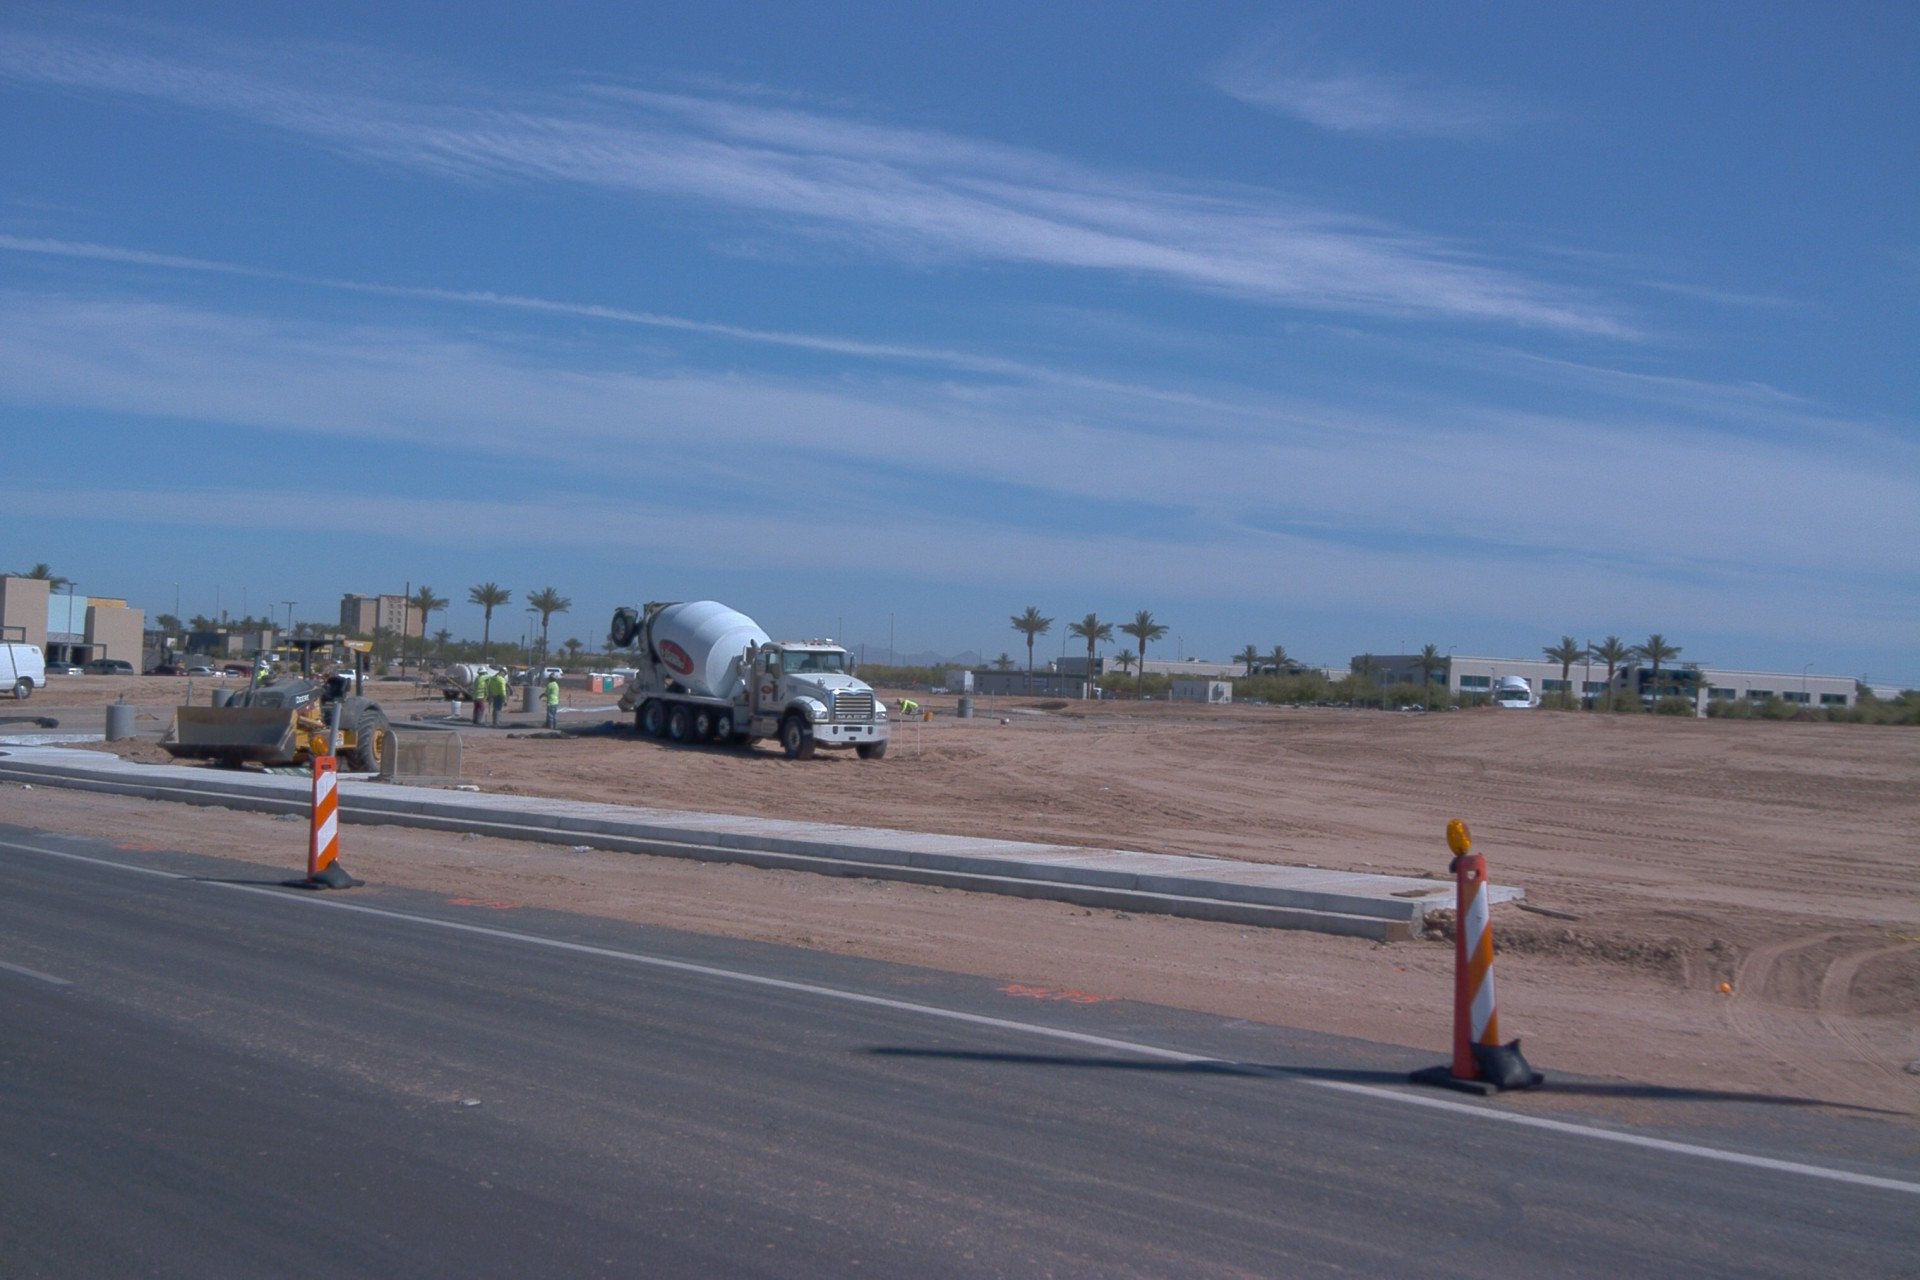TYPE_PEDESTRIAN: (486, 667, 510, 730), (472, 665, 494, 728), (538, 671, 561, 730), (895, 698, 919, 719), (255, 659, 269, 683), (310, 666, 318, 677)
TYPE_VEHICLE: (606, 598, 888, 765), (155, 625, 392, 773), (432, 663, 510, 703), (0, 643, 48, 701), (1490, 671, 1543, 711), (496, 656, 549, 688), (83, 655, 141, 678), (138, 665, 195, 681), (514, 667, 565, 682), (221, 664, 266, 680), (327, 670, 371, 684), (45, 661, 86, 676), (187, 665, 228, 679), (609, 669, 641, 685), (378, 678, 411, 685), (928, 686, 947, 694), (265, 653, 282, 661)
